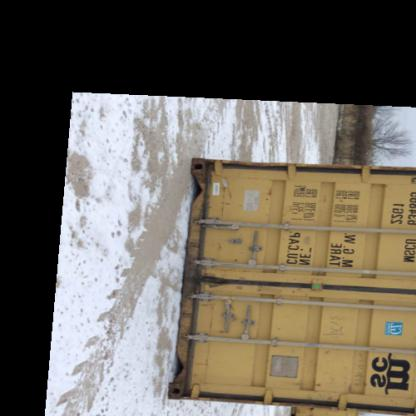Damage: (172, 314, 200, 399), (200, 154, 228, 236), (186, 262, 245, 296)
